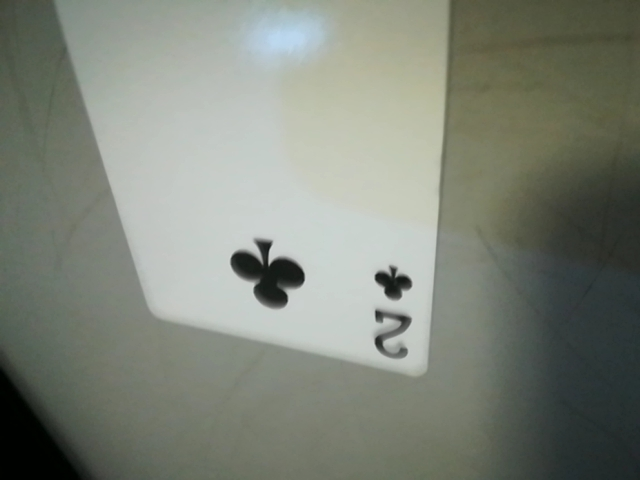mh 2: (357, 253, 430, 372)
